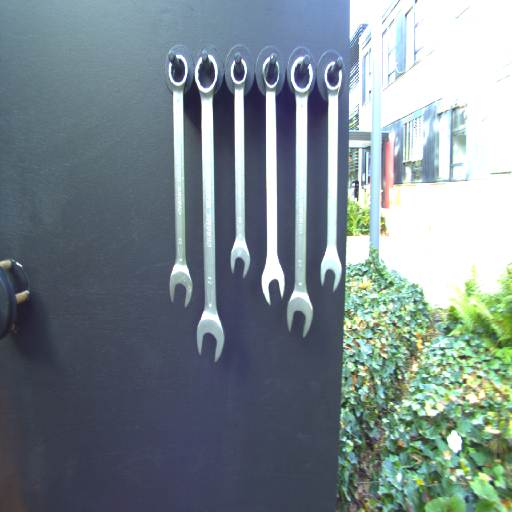bottom: (196, 312, 224, 363), (285, 293, 315, 340), (167, 261, 195, 310), (260, 261, 285, 304), (318, 250, 343, 292), (231, 239, 250, 280)
top: (289, 55, 315, 97), (193, 53, 219, 94), (322, 58, 344, 98), (260, 54, 283, 92), (165, 51, 188, 88), (228, 53, 250, 91)
